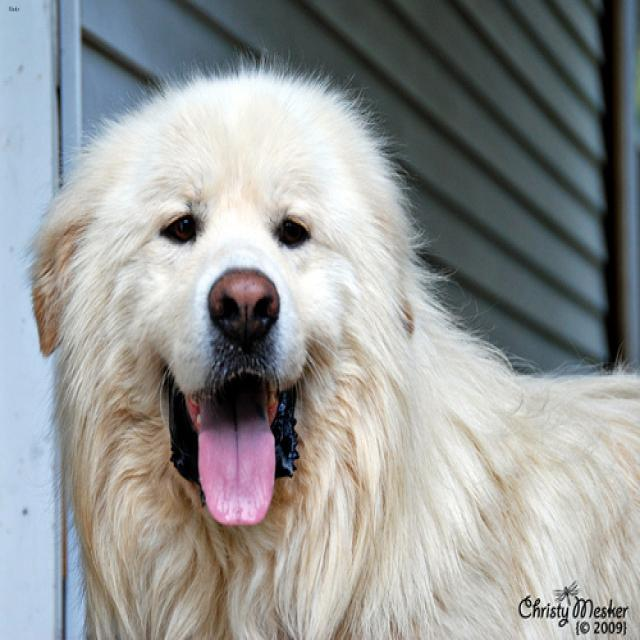dog-great_pyrenees: (15, 48, 637, 637)
